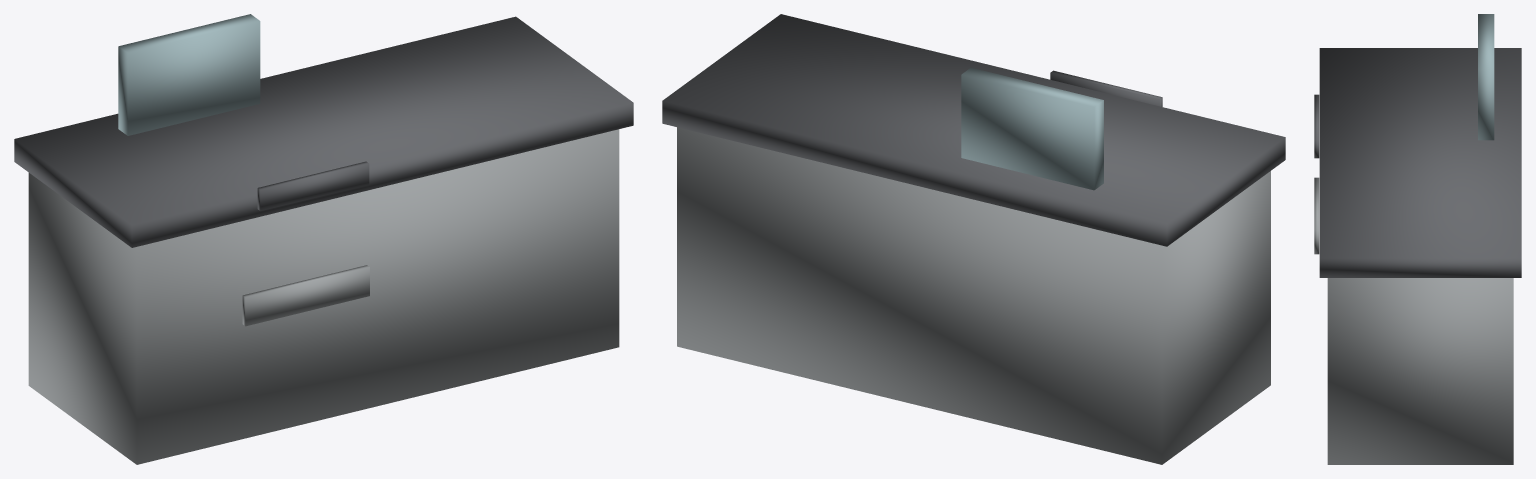
The model's file is police_booking_desk__weathered.glb.
3 renders of one model, left to right at view 1: azimuth 30°, elevation 25°; view 2: azimuth 150°, elevation 25°; view 3: azimuth 270°, elevation 25°, orthographic. The views are drawn at different scales.
Parts seen in each view (by area): view 1: world; view 2: world; view 3: world.
Boxes of the visible parts, box(x1,y1,x2,y2) form: world: box(14, 14, 633, 464); world: box(662, 14, 1285, 464); world: box(1314, 14, 1521, 464).
Bounding box in the file's own units: 1.82 × 1.14 × 0.7596.
